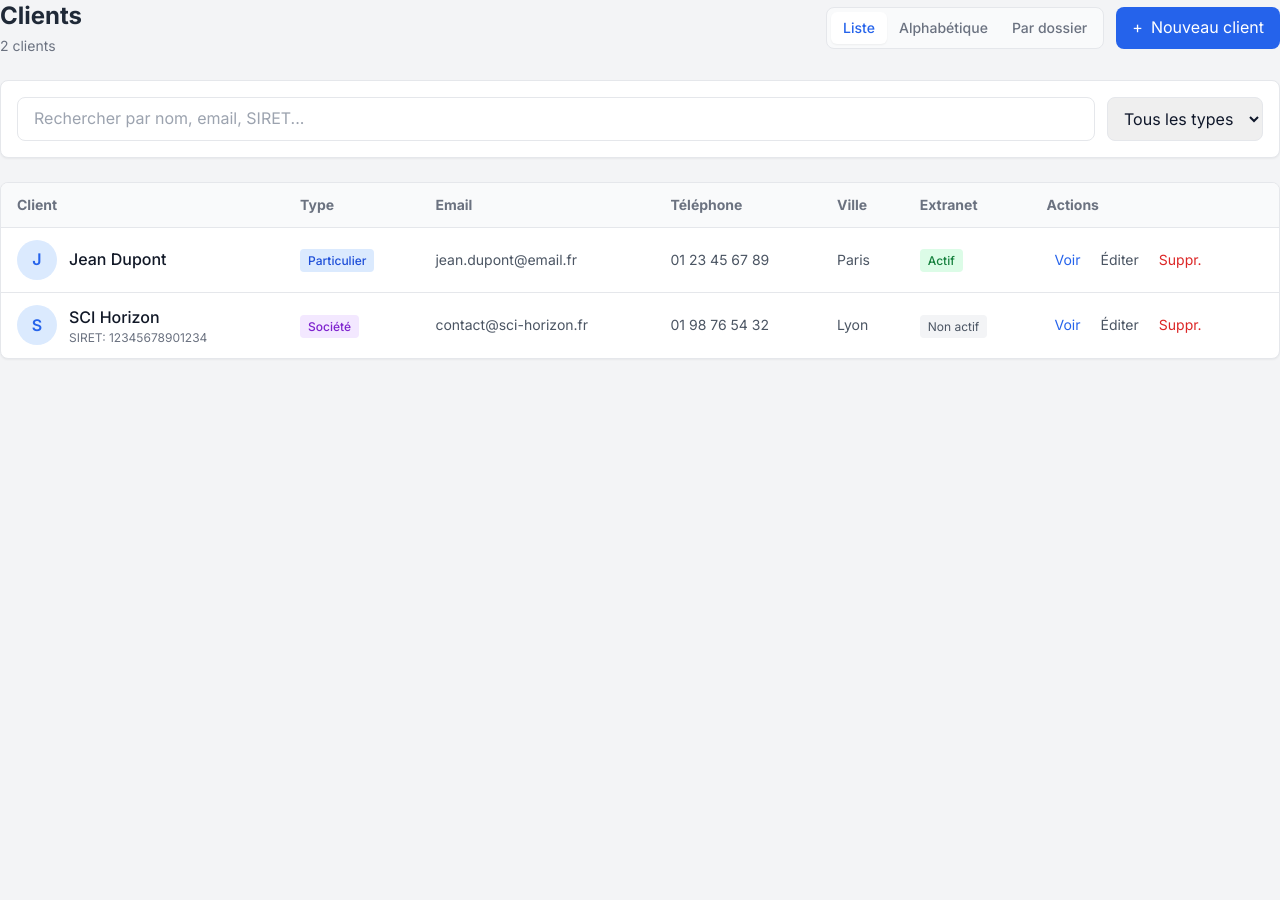
Test: Clients Page › shows delete confirmation dialog
The image size is (1280, 900).
Click the button "Suppr." in the row of "Jean Dupont" at x=1180, y=260, box [1151,246,1210,274]
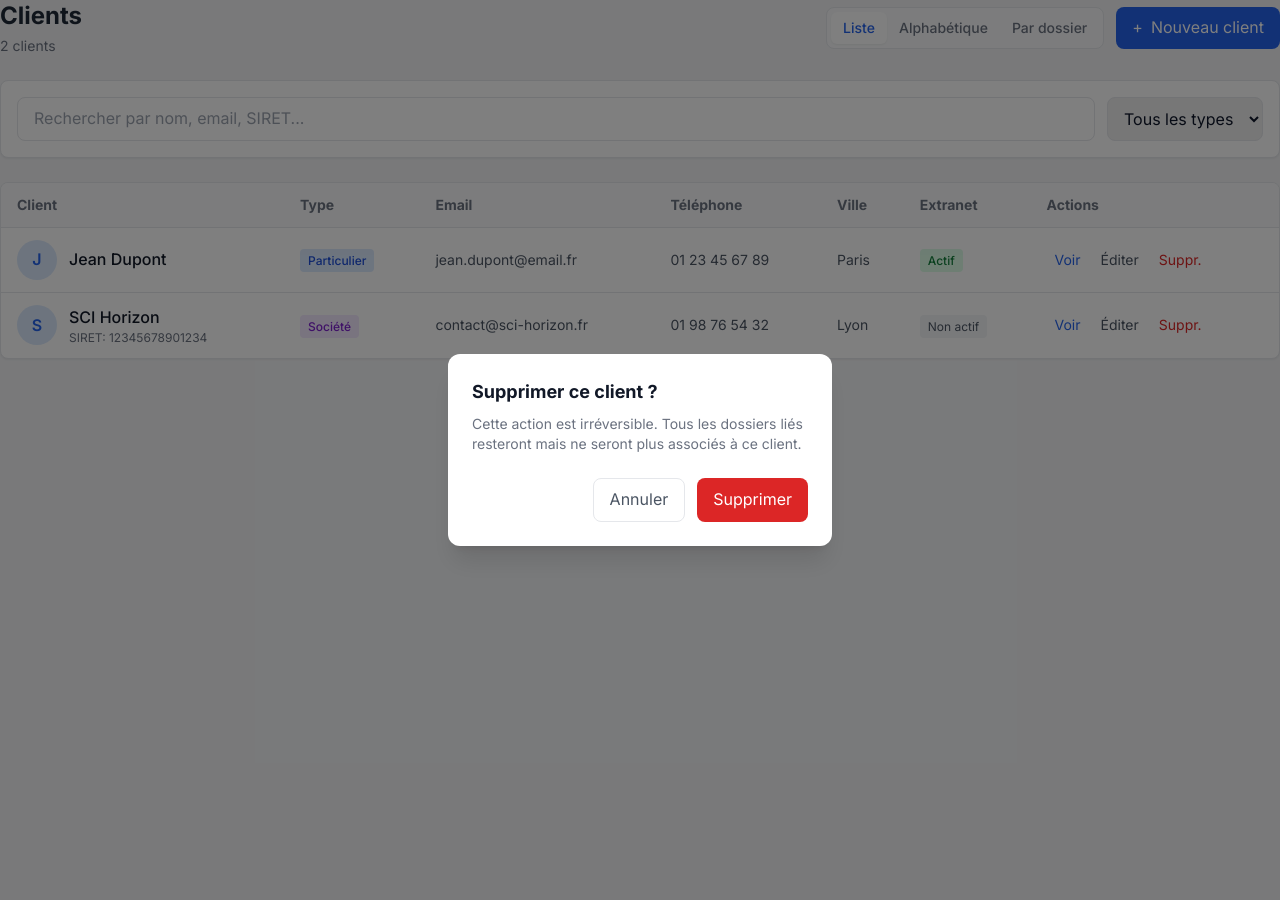
Result: the heading "Supprimer ce client ?" is shown at [472,381,658,402]
Result: the button "Annuler" is shown at [593,478,685,522]
